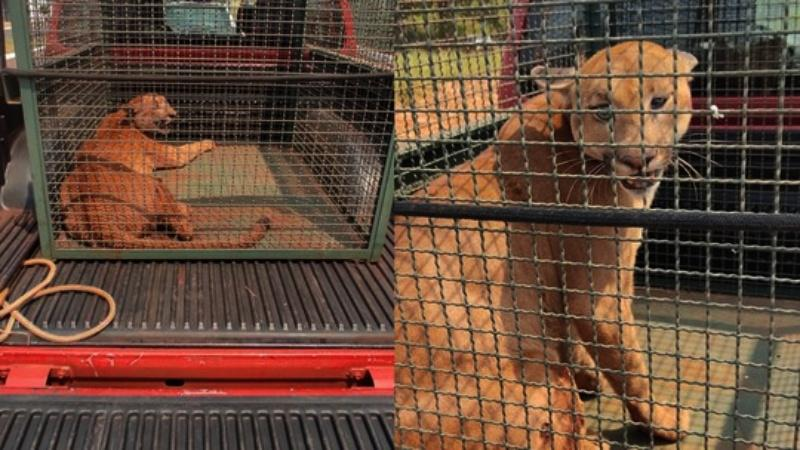OncaParda: (421, 47, 701, 449), (66, 86, 287, 258)
